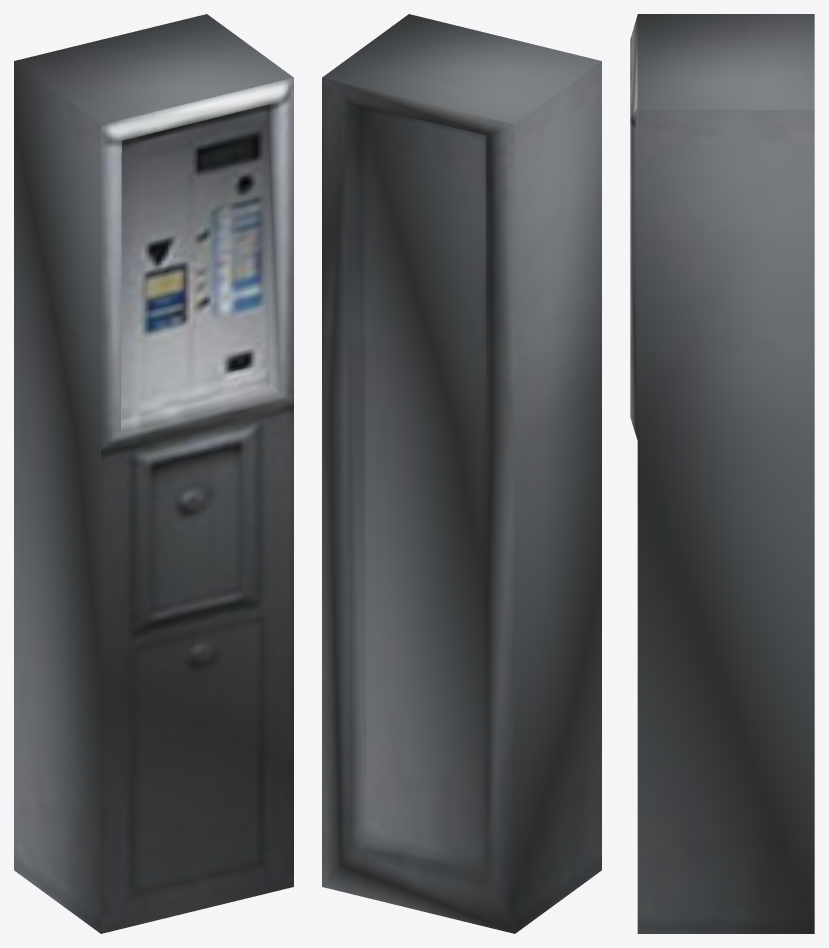
Rendered from Parquimetro.obj.
The picture shows the model from 3 angles, left to right: view 1: azimuth 30°, elevation 25°; view 2: azimuth 150°, elevation 25°; view 3: azimuth 270°, elevation 25°; orthographic projection.
Visible parts, largest first — view 1: parko01; view 2: parko01; view 3: parko01.
Boxes of the visible parts, left/top/right/bottom form: parko01: left=14, top=14, right=293, bottom=933; parko01: left=322, top=14, right=601, bottom=933; parko01: left=630, top=14, right=814, bottom=933.
Size of the model in its own units: 0.3742 by 1.5 by 0.3046.
